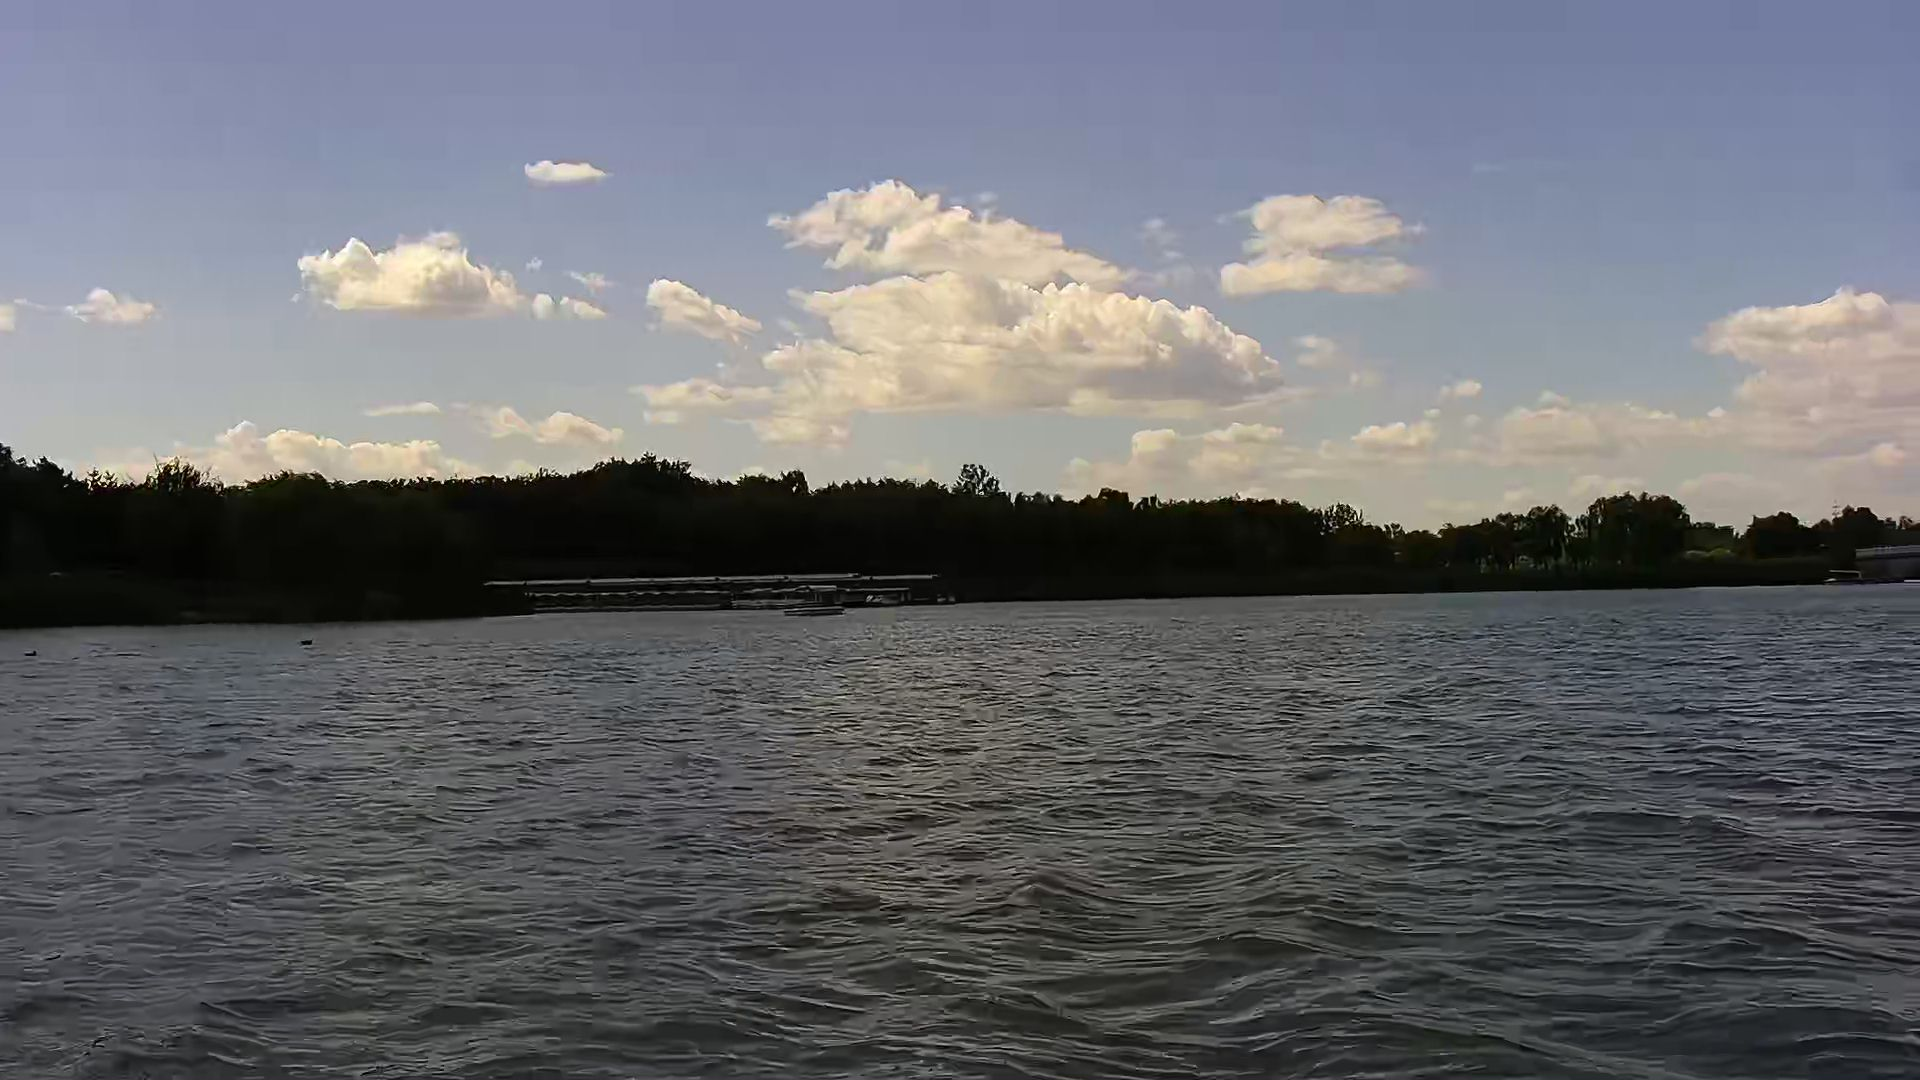boat: (783, 579, 855, 622)
bridge: (1853, 535, 1920, 591)
harbor: (485, 571, 972, 611)
